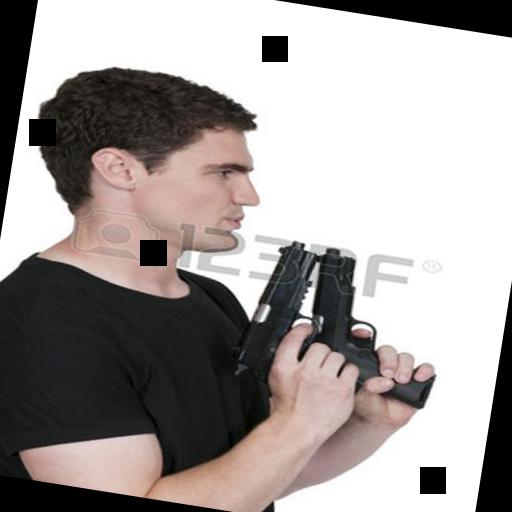Handgun: (298, 244, 455, 417), (220, 229, 339, 395)
